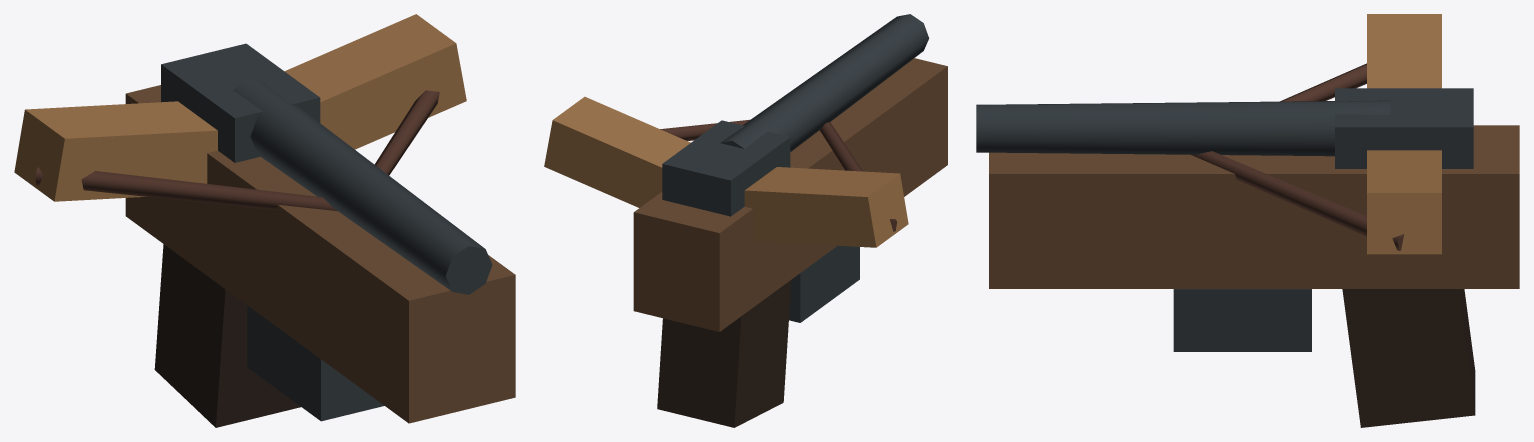
Rendered from hand-crossbow.glb.
The picture shows the model from 3 angles, left to right: view 1: azimuth 30°, elevation 25°; view 2: azimuth 150°, elevation 25°; view 3: azimuth 270°, elevation 25°; orthographic projection. The views are drawn at different scales.
Parts seen in each view (by area): view 1: hand-crossbow-stock, hand-crossbow-barrel, hand-crossbow-prod-left, hand-crossbow-prod-right, hand-crossbow-grip, hand-crossbow-prod-center, hand-crossbow-trigger-guard, hand-crossbow-string, hand-crossbow-string-return; view 2: hand-crossbow-stock, hand-crossbow-grip, hand-crossbow-prod-left, hand-crossbow-prod-right, hand-crossbow-barrel, hand-crossbow-prod-center, hand-crossbow-trigger-guard, hand-crossbow-string, hand-crossbow-string-return; view 3: hand-crossbow-stock, hand-crossbow-barrel, hand-crossbow-grip, hand-crossbow-prod-center, hand-crossbow-trigger-guard, hand-crossbow-prod-right, hand-crossbow-prod-left, hand-crossbow-string-return, hand-crossbow-string.
Boxes of the visible parts, x1,y1,x2,y2 form: hand-crossbow-stock: (125, 85, 515, 423); hand-crossbow-barrel: (233, 79, 492, 294); hand-crossbow-prod-left: (14, 101, 217, 201); hand-crossbow-prod-right: (284, 14, 466, 149); hand-crossbow-grip: (154, 244, 300, 427); hand-crossbow-prod-center: (161, 43, 320, 162); hand-crossbow-trigger-guard: (247, 305, 384, 421); hand-crossbow-string: (35, 166, 336, 210); hand-crossbow-string-return: (374, 90, 439, 175); hand-crossbow-stock: (633, 58, 947, 331); hand-crossbow-grip: (657, 280, 791, 427); hand-crossbow-prod-left: (744, 167, 908, 247); hand-crossbow-prod-right: (544, 96, 690, 207); hand-crossbow-barrel: (720, 14, 929, 151); hand-crossbow-prod-center: (662, 120, 790, 216); hand-crossbow-trigger-guard: (789, 245, 859, 322); hand-crossbow-string: (820, 122, 896, 231); hand-crossbow-string-return: (660, 119, 749, 140); hand-crossbow-stock: (989, 125, 1519, 288); hand-crossbow-barrel: (976, 100, 1390, 156); hand-crossbow-grip: (1342, 289, 1475, 427); hand-crossbow-prod-center: (1335, 88, 1473, 168); hand-crossbow-trigger-guard: (1173, 289, 1311, 351); hand-crossbow-prod-right: (1367, 150, 1441, 254); hand-crossbow-prod-left: (1367, 14, 1441, 88); hand-crossbow-string-return: (1191, 151, 1403, 250); hand-crossbow-string: (1280, 63, 1366, 101).
Size of the model in its own units: 0.3912 by 0.2913 by 0.471.
